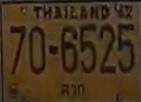0: (28, 26, 45, 74)
2: (99, 24, 114, 74)
5: (116, 23, 134, 72), (80, 24, 96, 72)
6: (60, 25, 77, 72)
7: (10, 25, 25, 72)
TAK: (59, 82, 88, 98)
